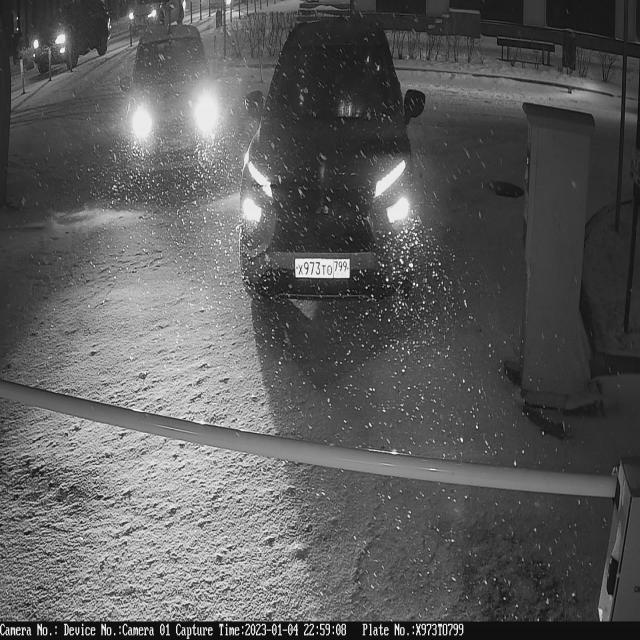car-plate-numbers: (293, 254, 354, 286)
